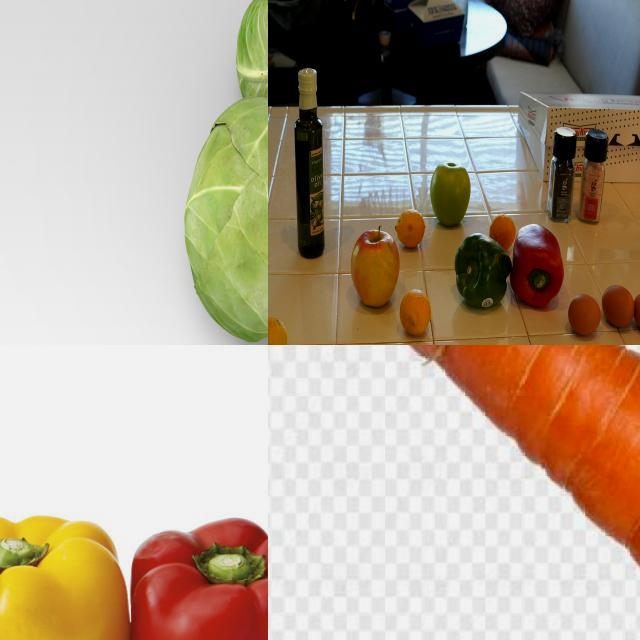bell_pepper: (1, 512, 135, 640), (135, 522, 269, 640), (505, 219, 571, 315), (451, 235, 513, 313), (544, 125, 583, 225)
cabbage: (183, 98, 269, 346), (236, 1, 269, 118)
carrot: (269, 346, 640, 640)
egg: (565, 292, 604, 340), (600, 284, 636, 333), (632, 291, 640, 339)
